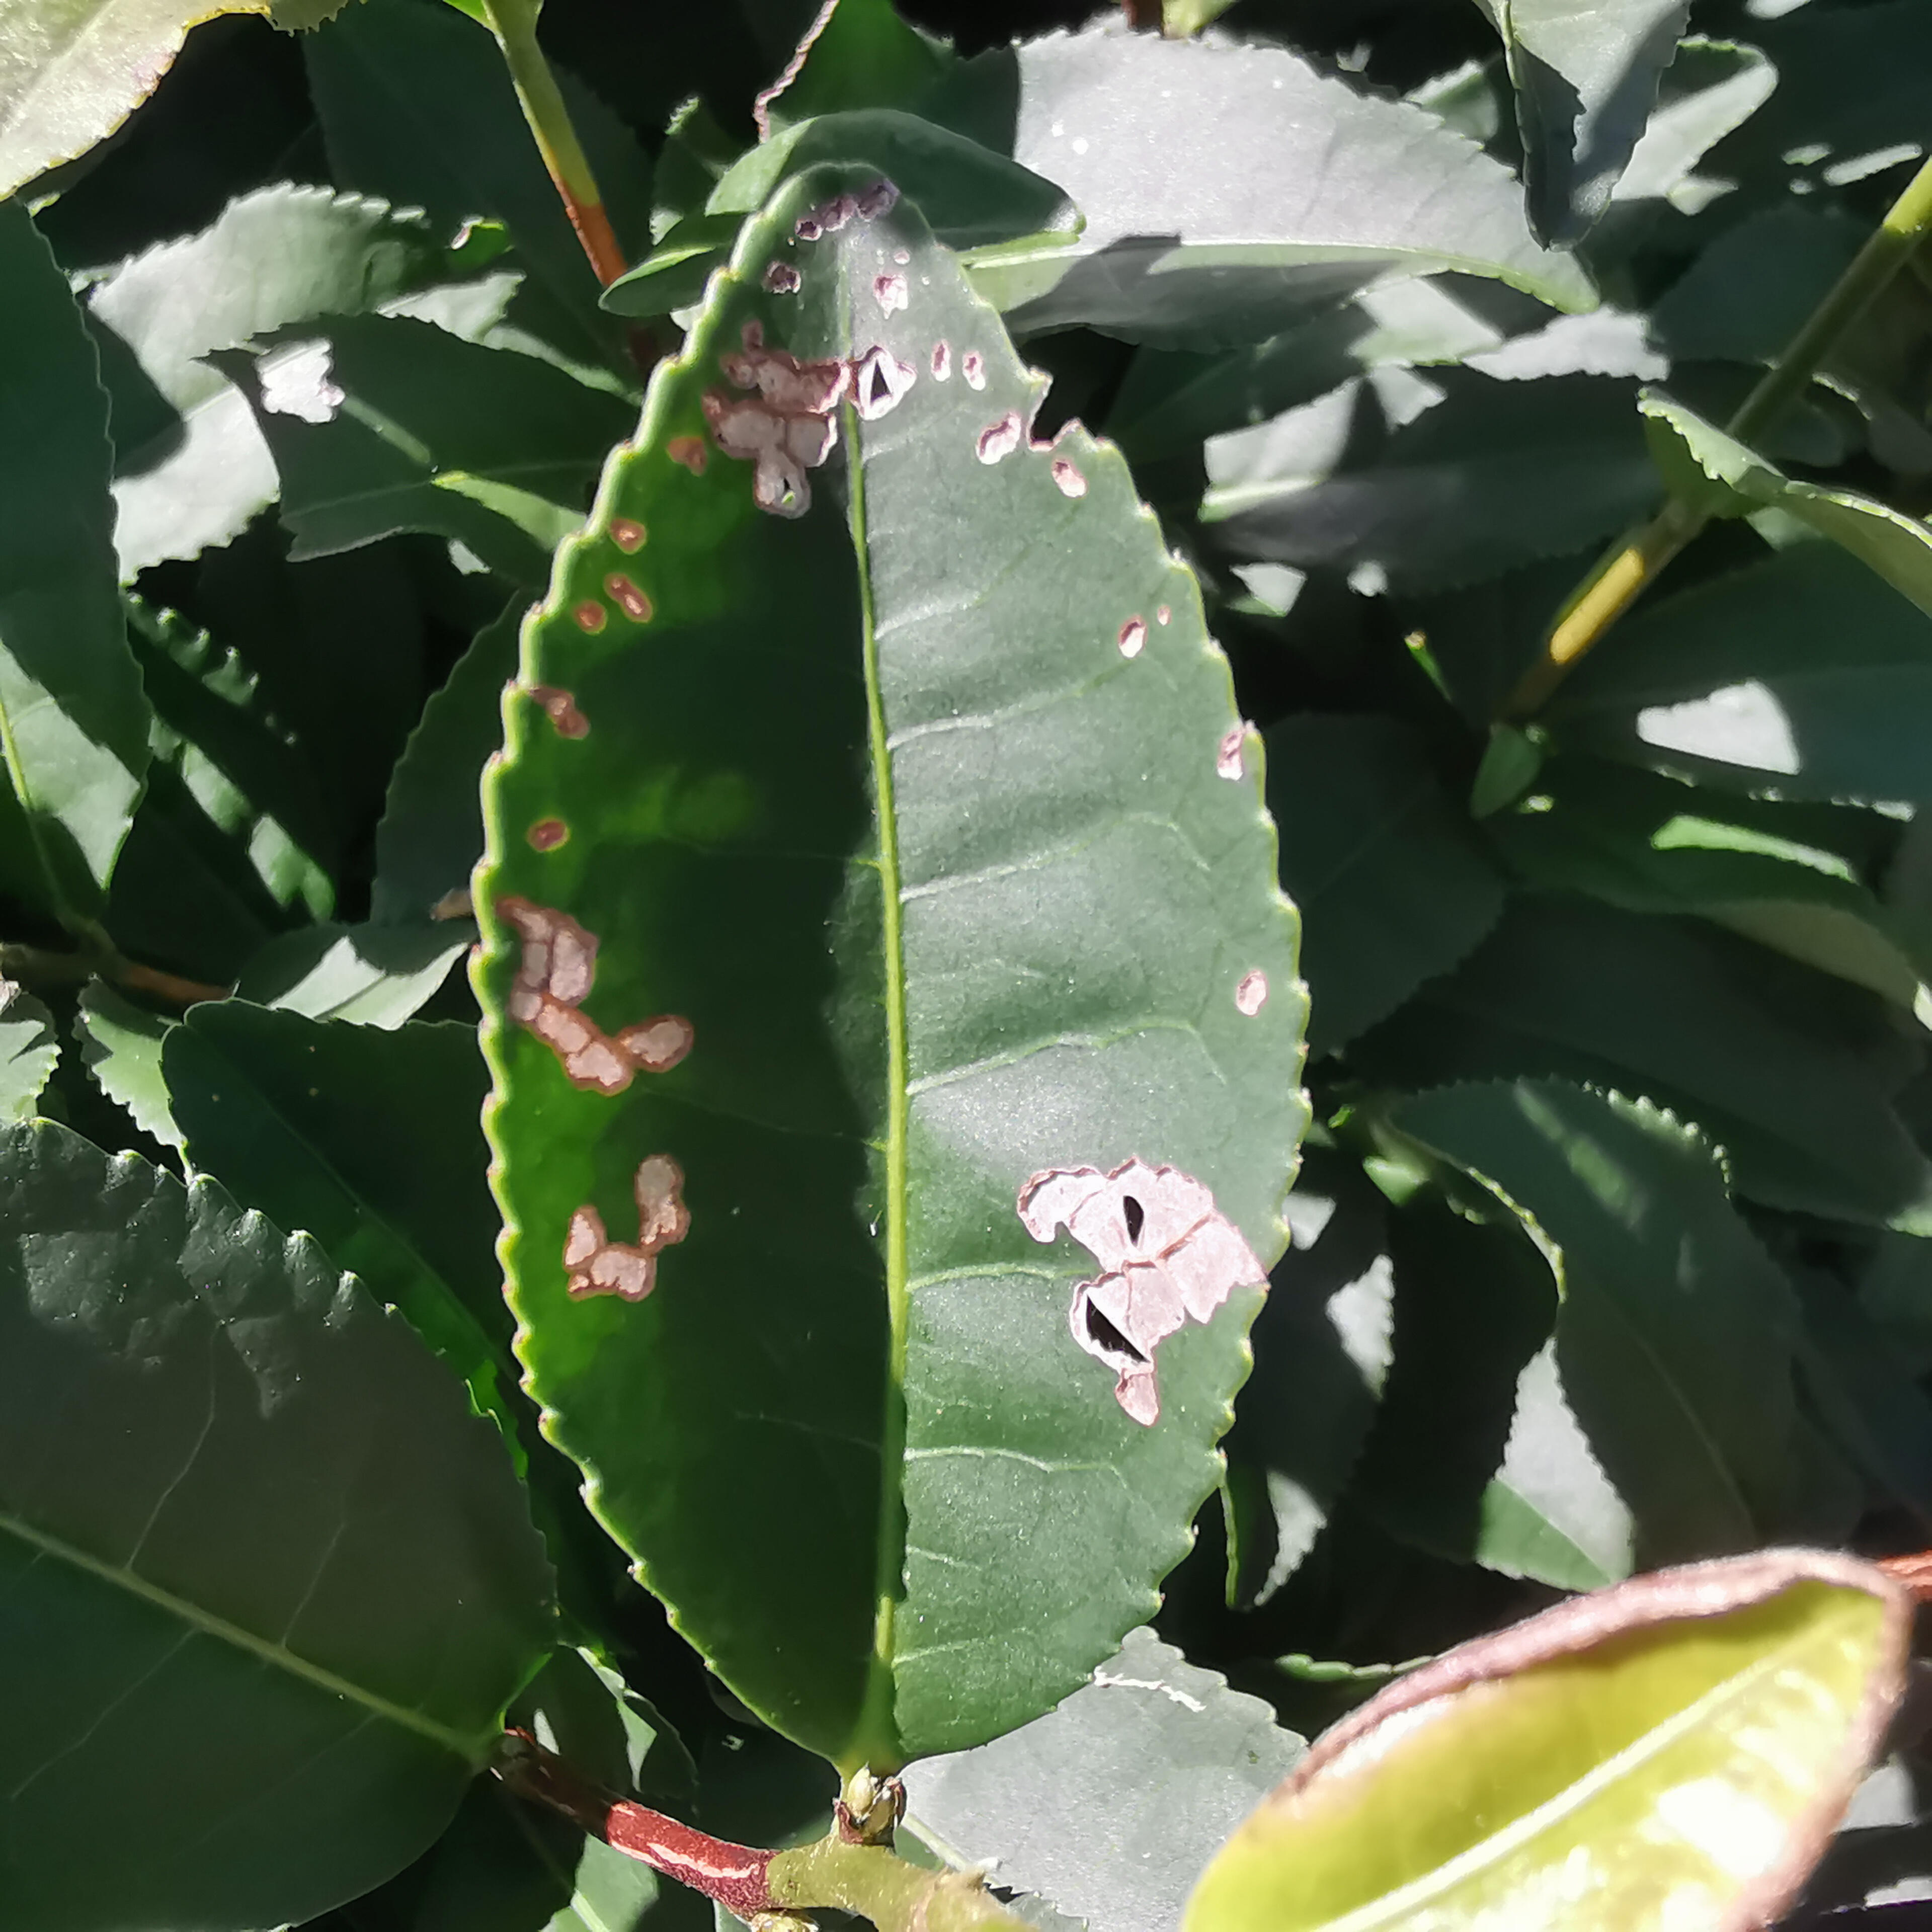healthy: (4, 1111, 561, 1930)
tanju_high: (465, 159, 1318, 1773)
tanju_low: (1180, 1541, 1913, 1928)
